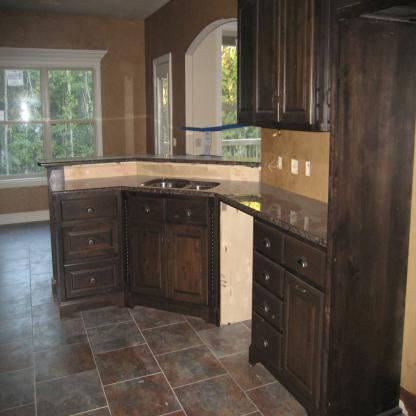door: (152, 60, 172, 156)
lever: (162, 138, 169, 146)
